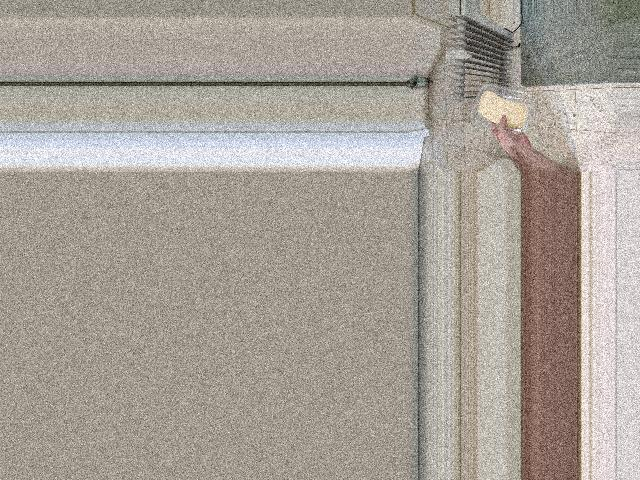cheese: (472, 89, 530, 130)
